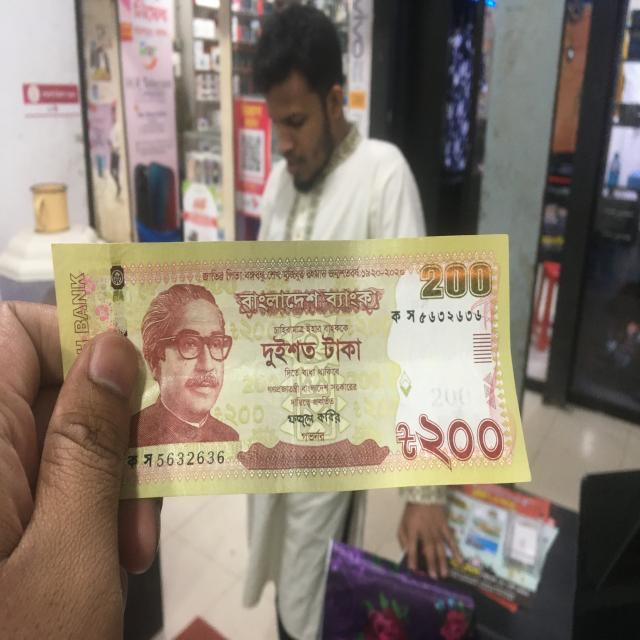Taka: (45, 241, 534, 483)
